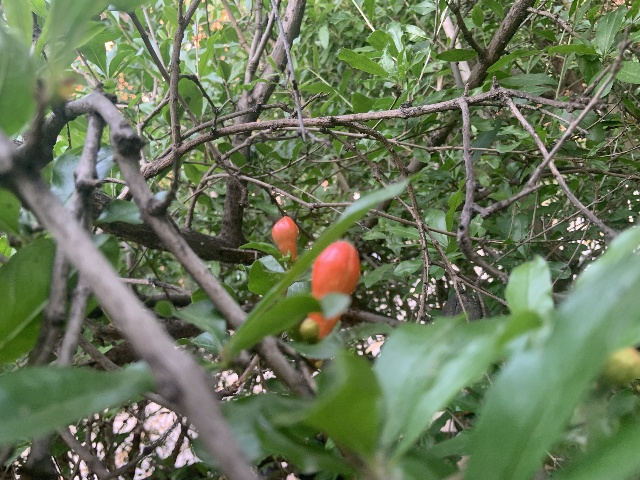bud: (309, 240, 360, 336), (271, 215, 299, 260)
